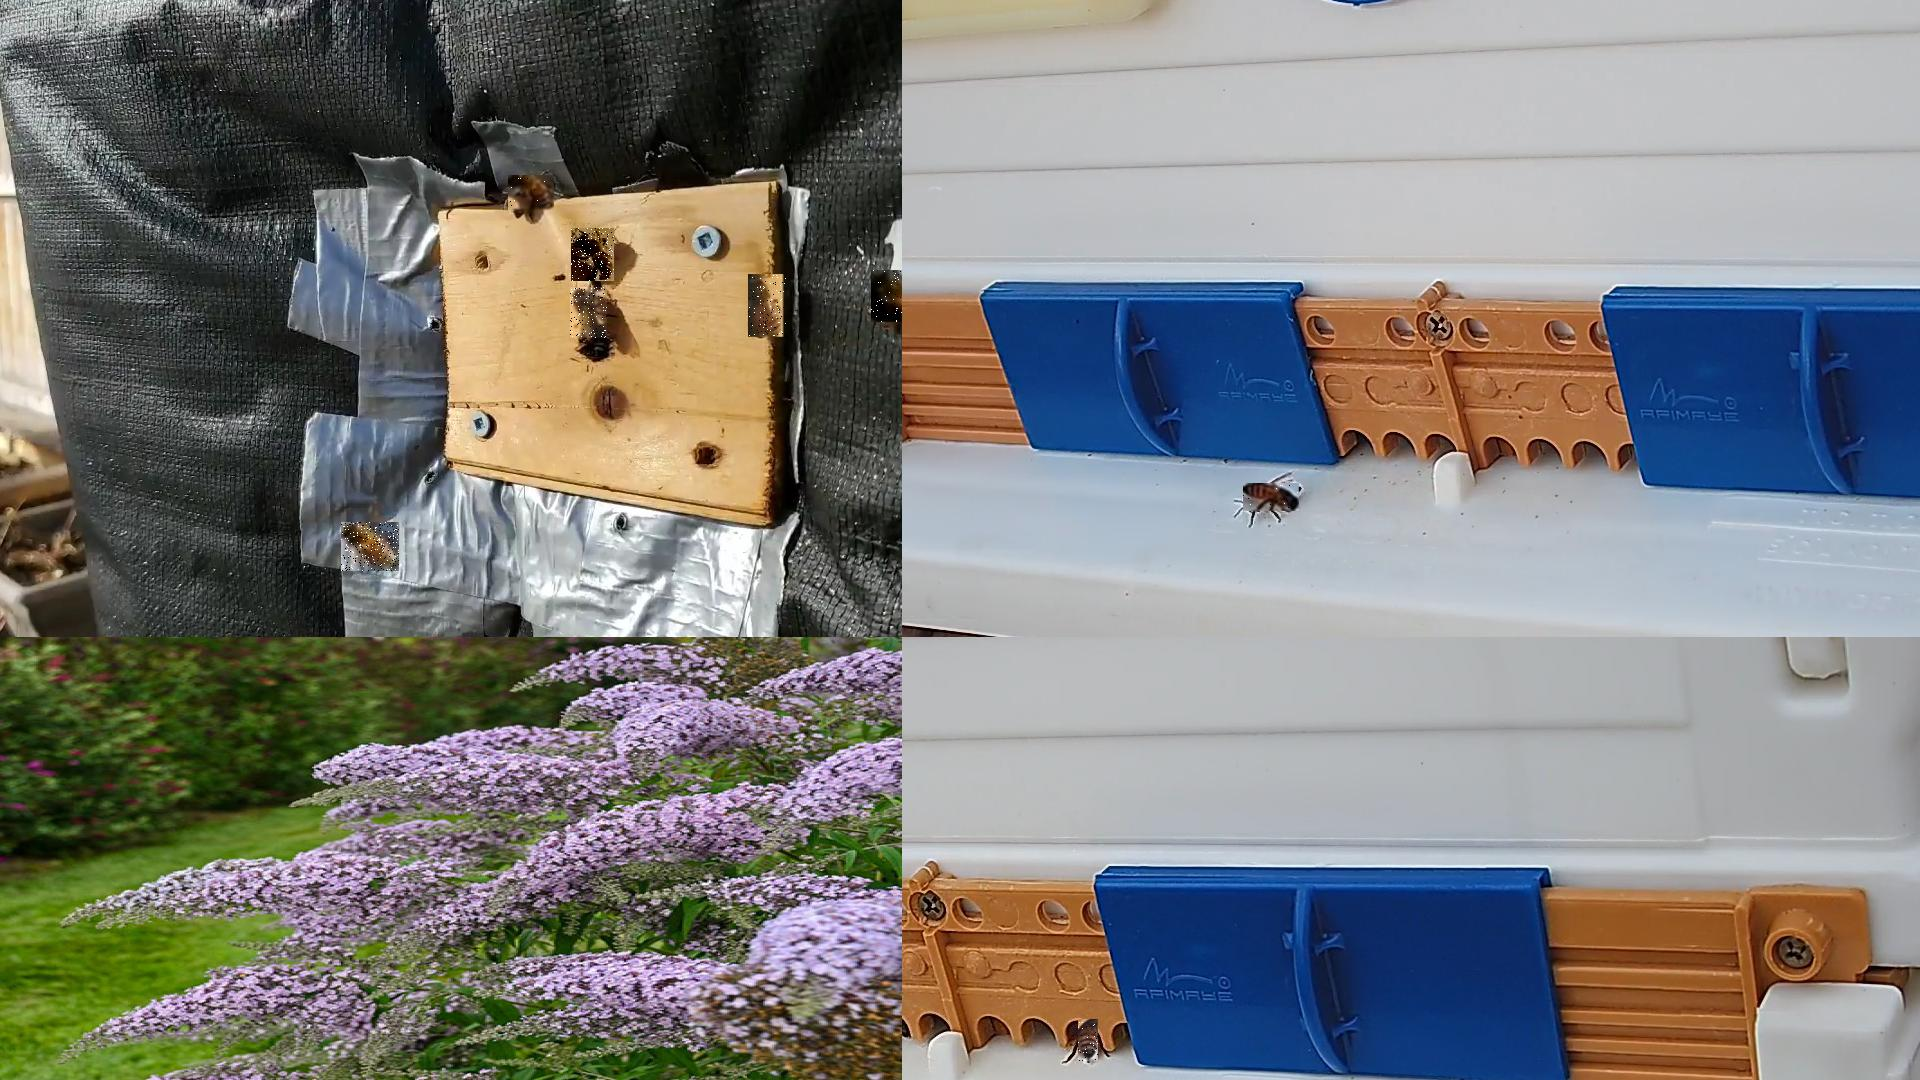bee: (749, 274, 789, 338), (571, 228, 615, 282), (570, 287, 608, 339), (508, 175, 555, 214), (1244, 483, 1300, 512), (872, 270, 901, 324), (1079, 1019, 1098, 1064)
pollenbee: (342, 522, 400, 572)
